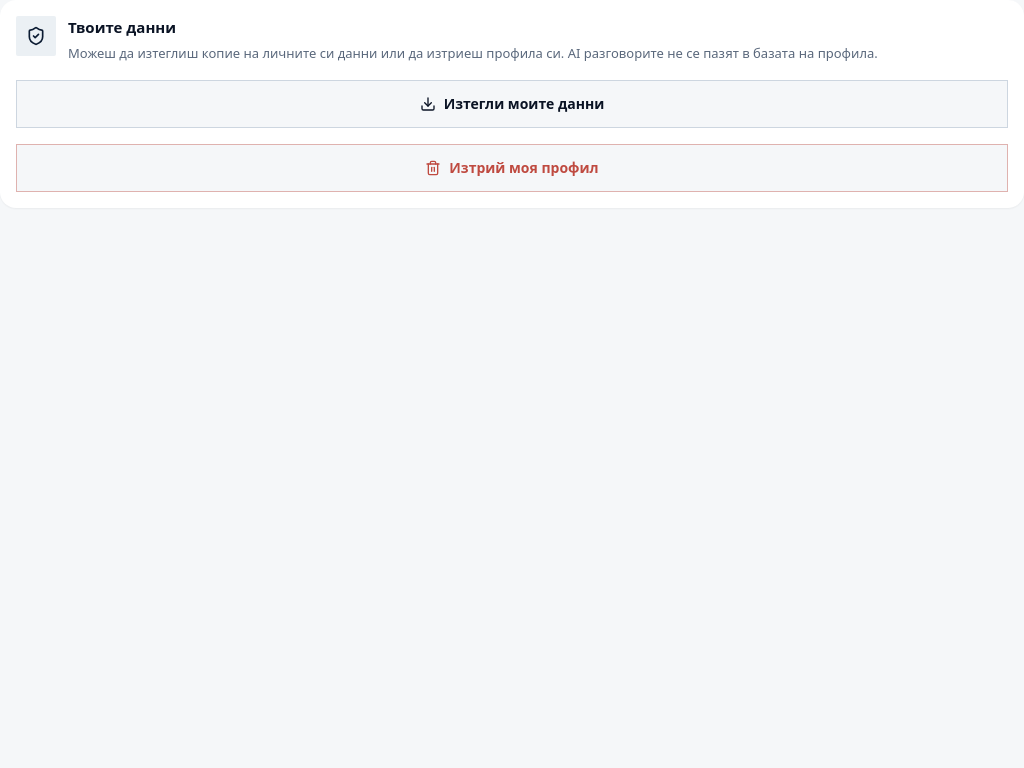
Test: GdprSettings › requires the exact account email before permanent deletion can be confirmed
Click the button "Изтрий моя профил": (512, 168) x1=16 y1=144 x2=1008 y2=192
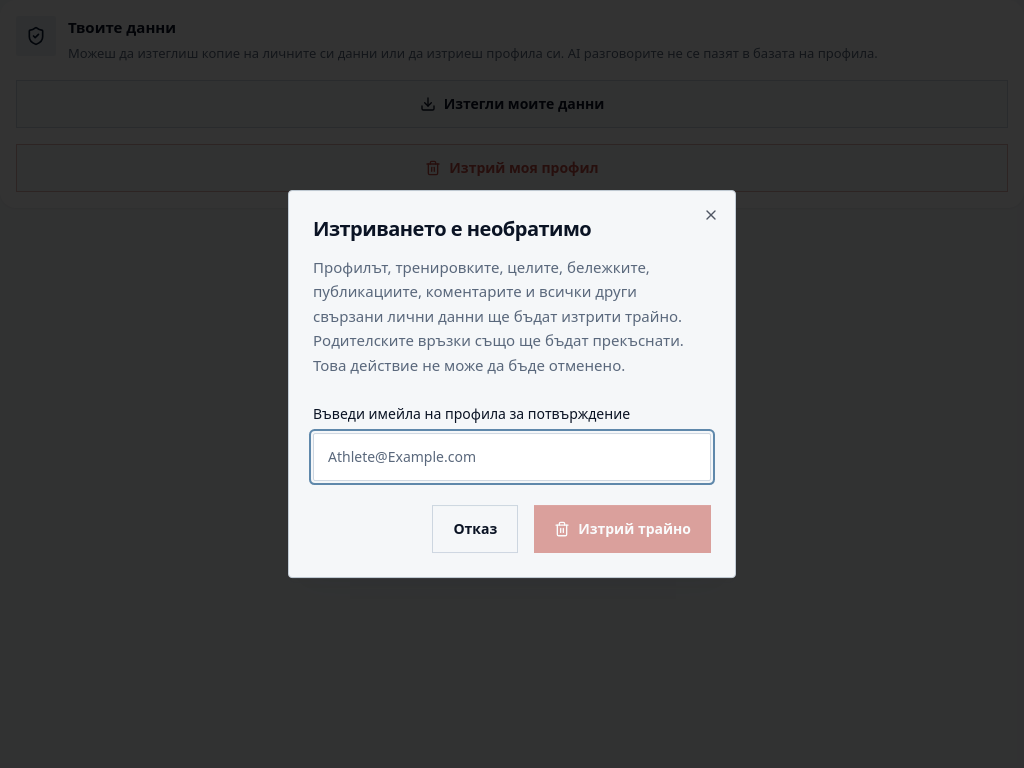
expect the button "Изтрий трайно" is disabled: met, box x1=534 y1=505 x2=711 y2=553
In the field labelled "Въведи имейла на профила за потвърждение": (512, 457) x1=313 y1=433 x2=711 y2=481, type "other@example.com"
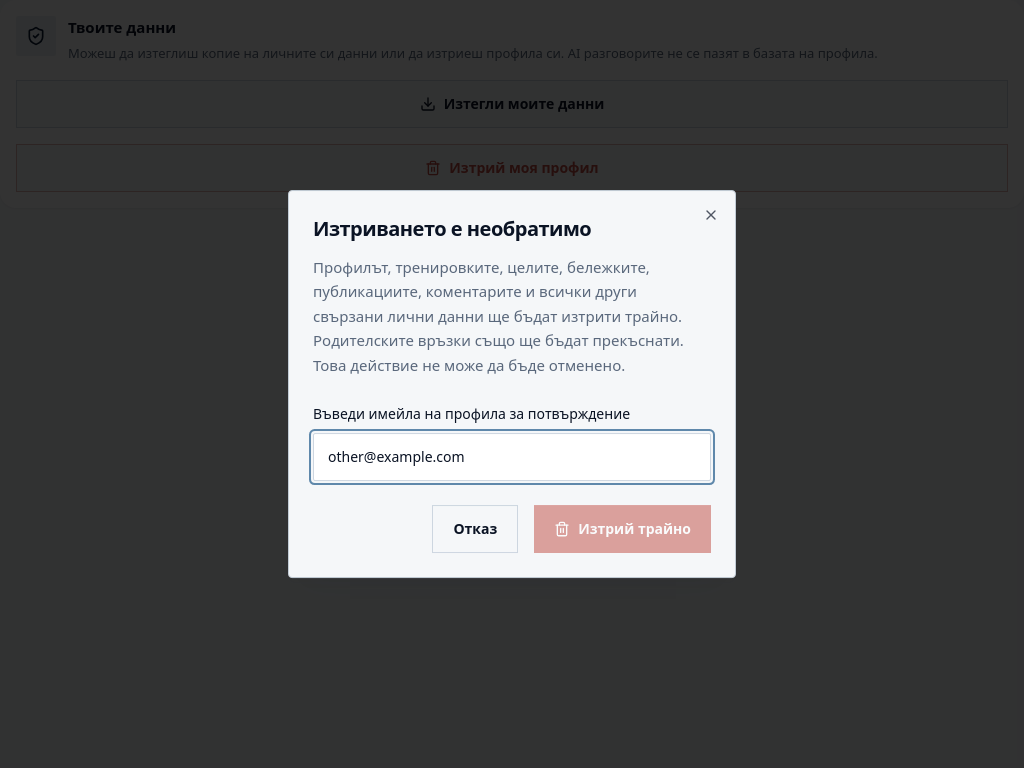
expect the button "Изтрий трайно" is disabled: met, box x1=534 y1=505 x2=711 y2=553
Replace the text in the field labelled "Въведи имейла на профила за потвърждение" with "  ATHLETE@example.COM ": (512, 457) x1=313 y1=433 x2=711 y2=481
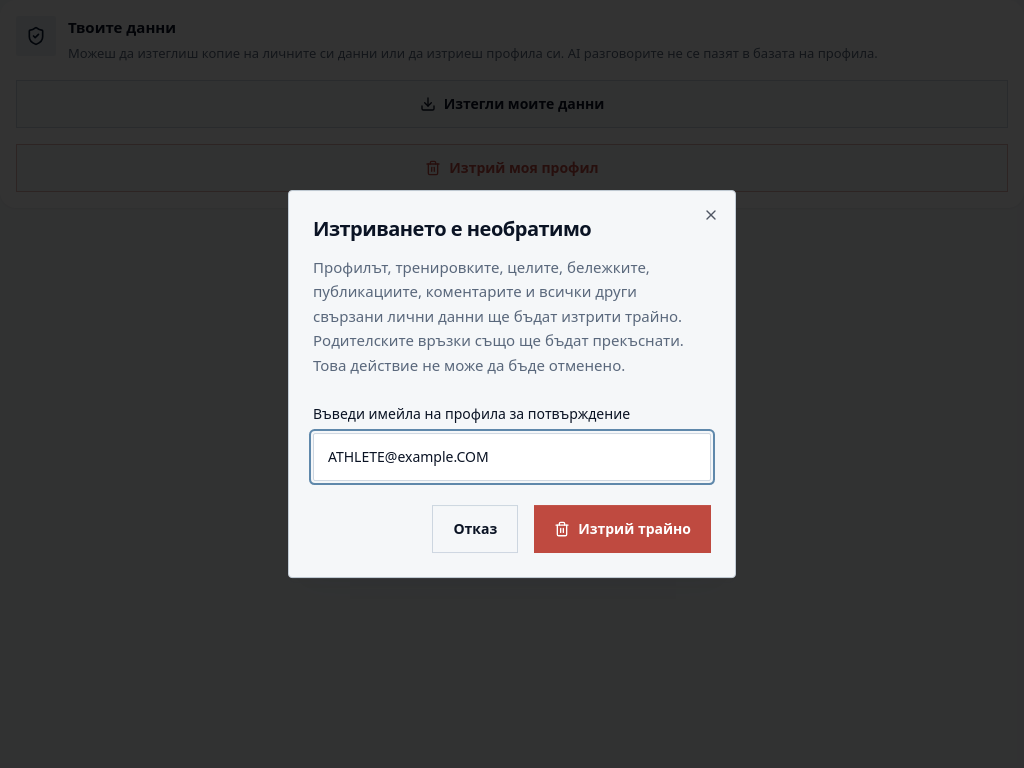
expect the button "Изтрий трайно" is enabled: met, box x1=534 y1=505 x2=711 y2=553
